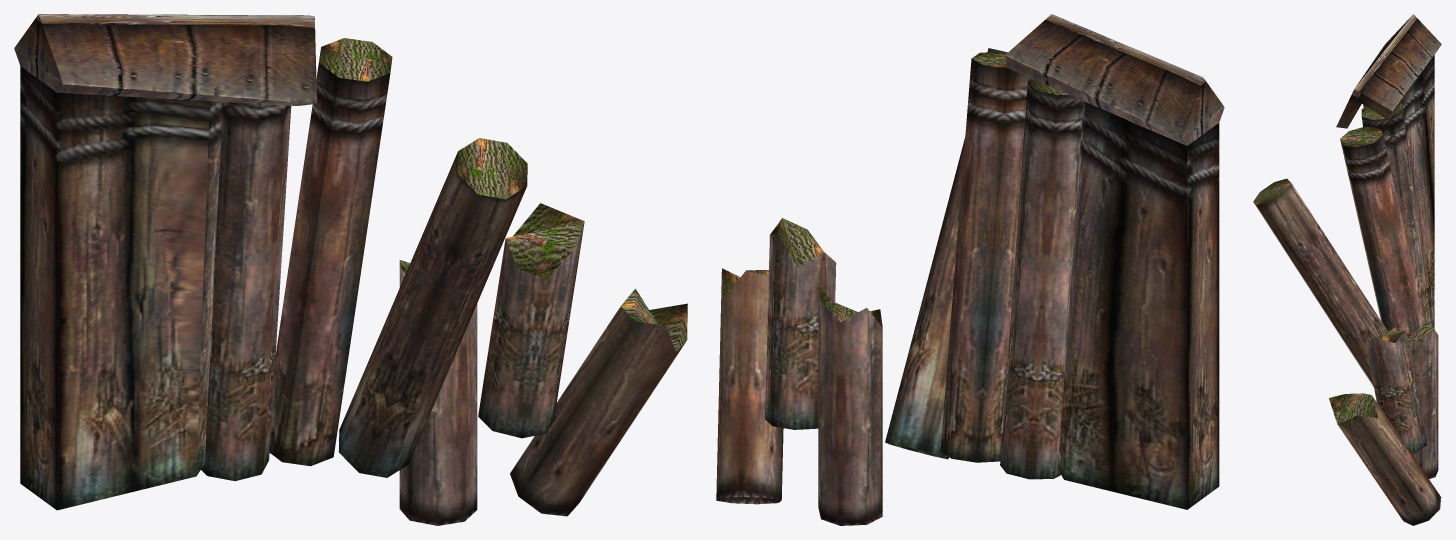
The model's file is S_RFWal3.glb.
3 views of the same model, side by side, from view 1: azimuth 30°, elevation 25°; view 2: azimuth 150°, elevation 25°; view 3: azimuth 270°, elevation 25° (orthographic). The views are drawn at different scales.
Visible parts, largest first — view 1: S_RFWal3; view 2: S_RFWal3; view 3: S_RFWal3.
Boxes of the visible parts, bbox=[...] form: S_RFWal3: bbox=[14, 14, 687, 525]; S_RFWal3: bbox=[716, 14, 1224, 525]; S_RFWal3: bbox=[1253, 14, 1441, 525].
Bounding box in the file's own units: 4.82 × 4.77 × 2.26.
Materials: 4 (4 with a texture image).
